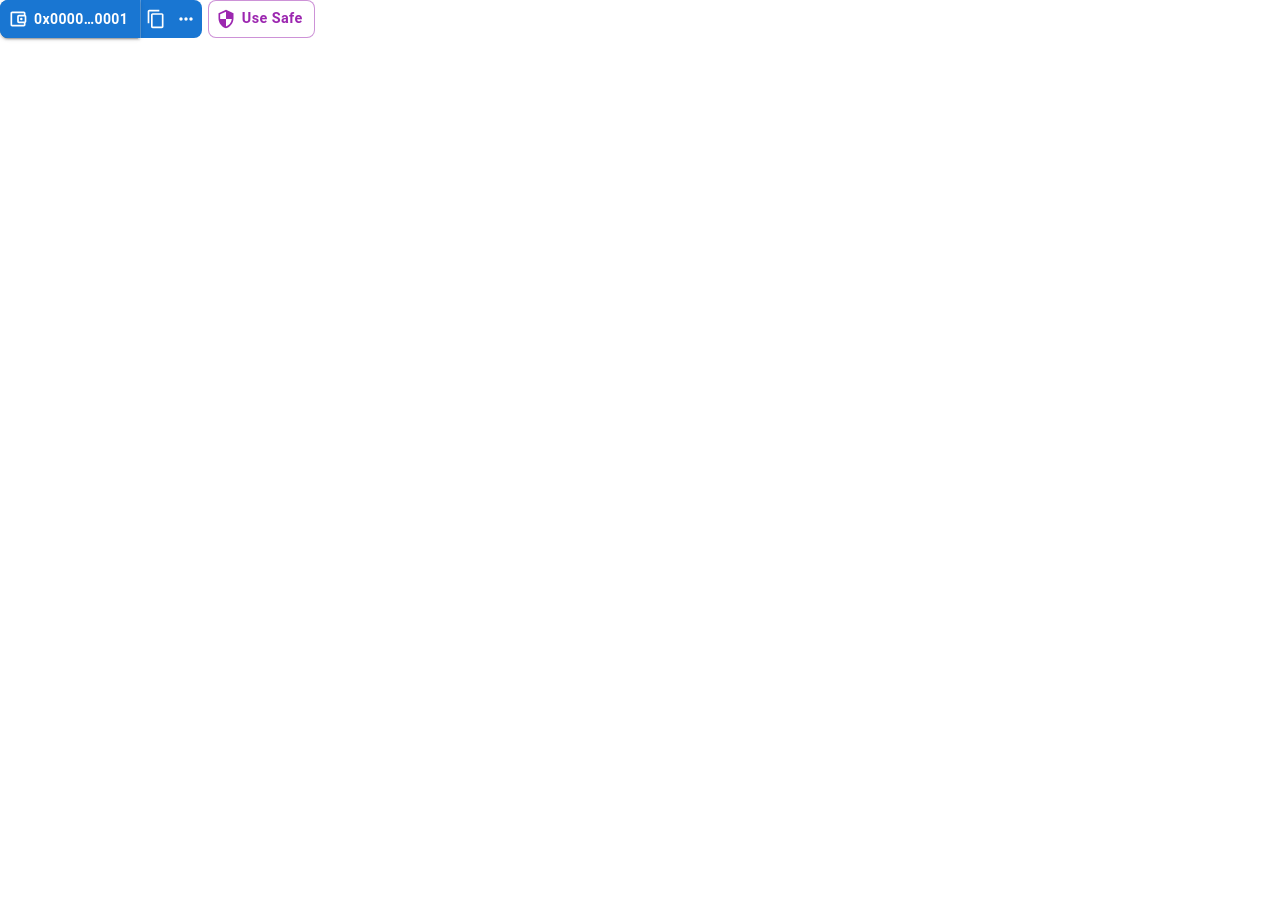
Scenario: ConnectionButton Safe address flow › shows verification failures inline instead of stacking a dialog
The width and height of the screenshot is (1280, 900).
Click the button with aria-label "Manage Safe accounts" at (261, 19), box [208, 0, 315, 38]
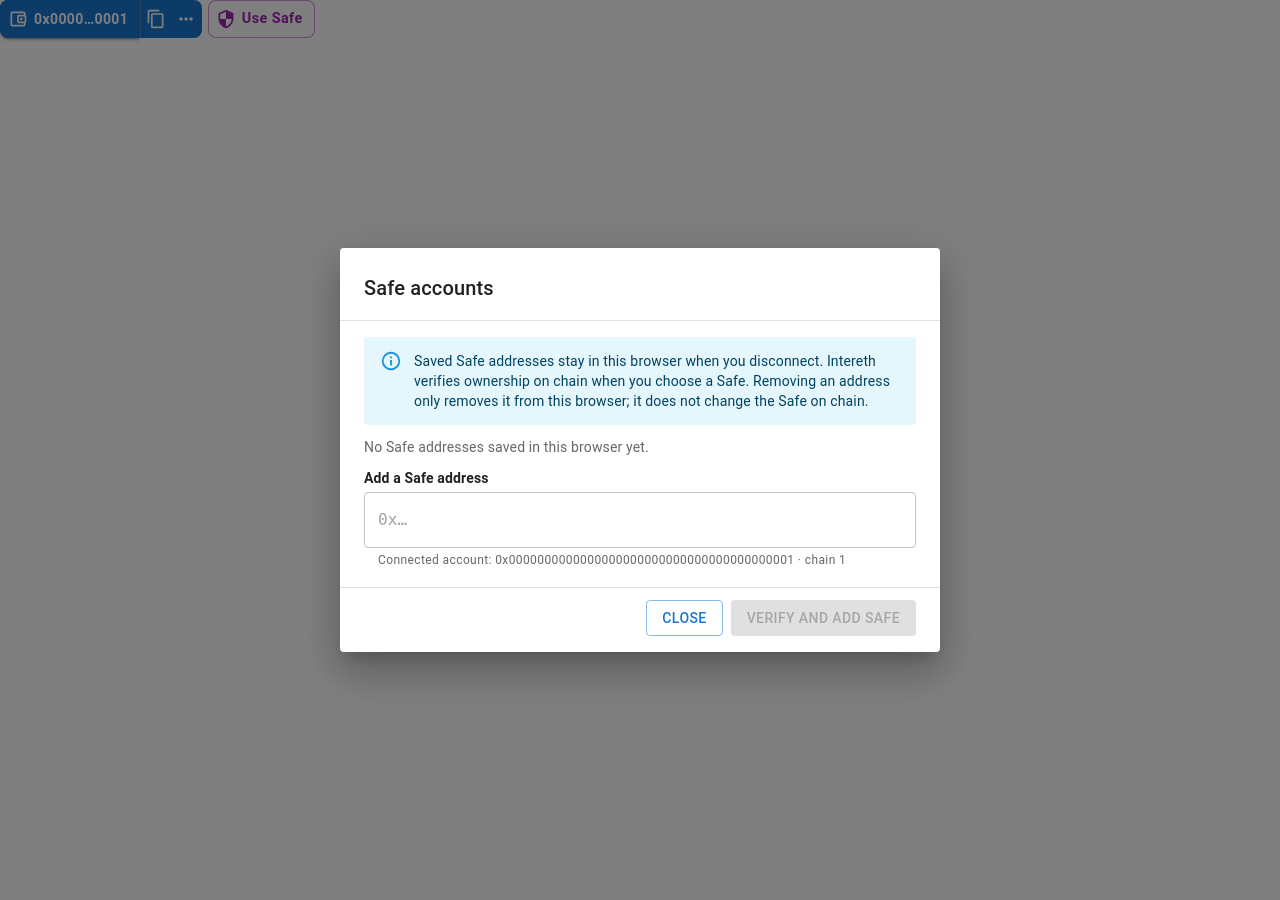
Type "0x00000000000000000000000000000000000000aa" into the field labelled "Add a Safe address" at (640, 520), box [364, 492, 916, 548]
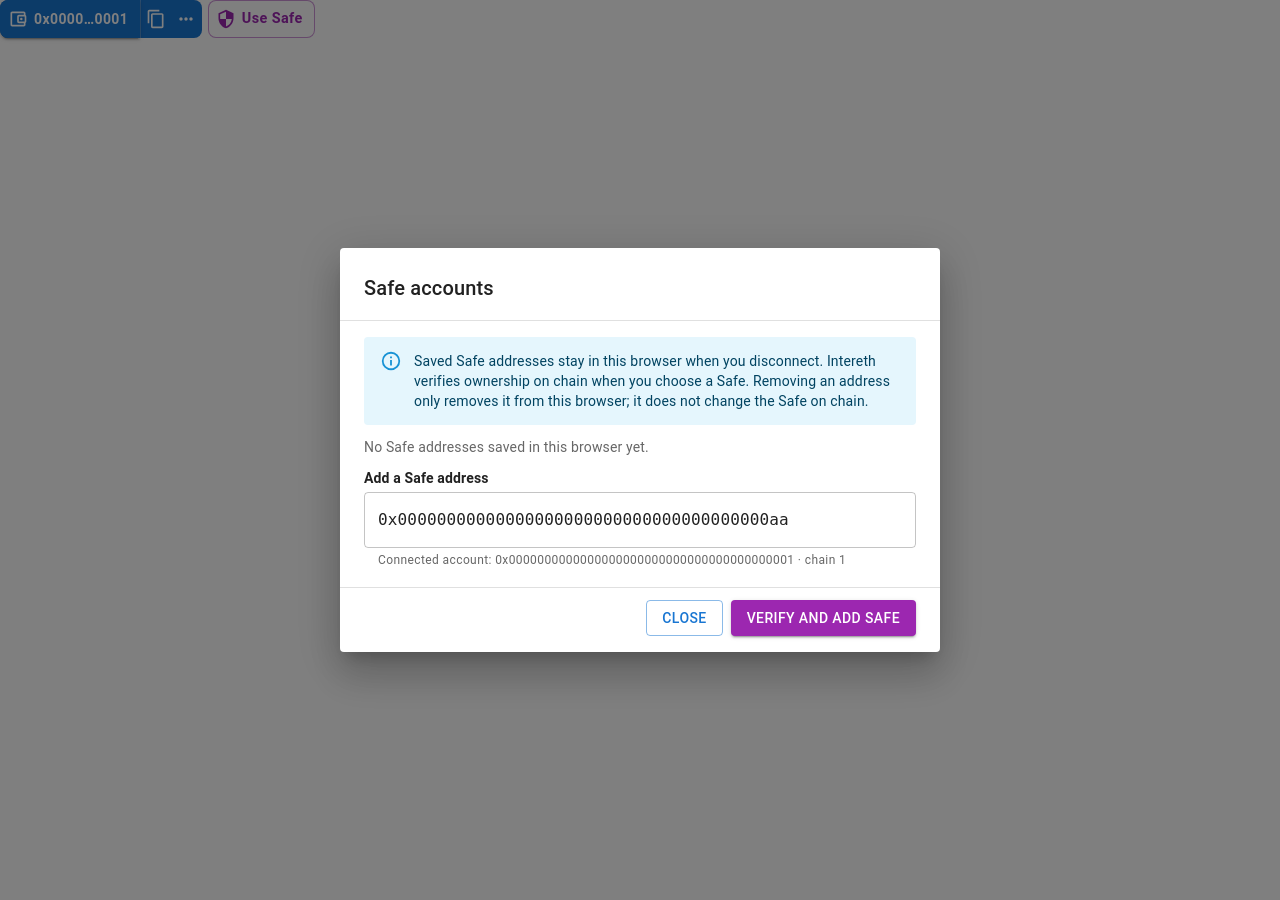
Click the button "Verify and add Safe" at (823, 618), box [731, 600, 916, 636]
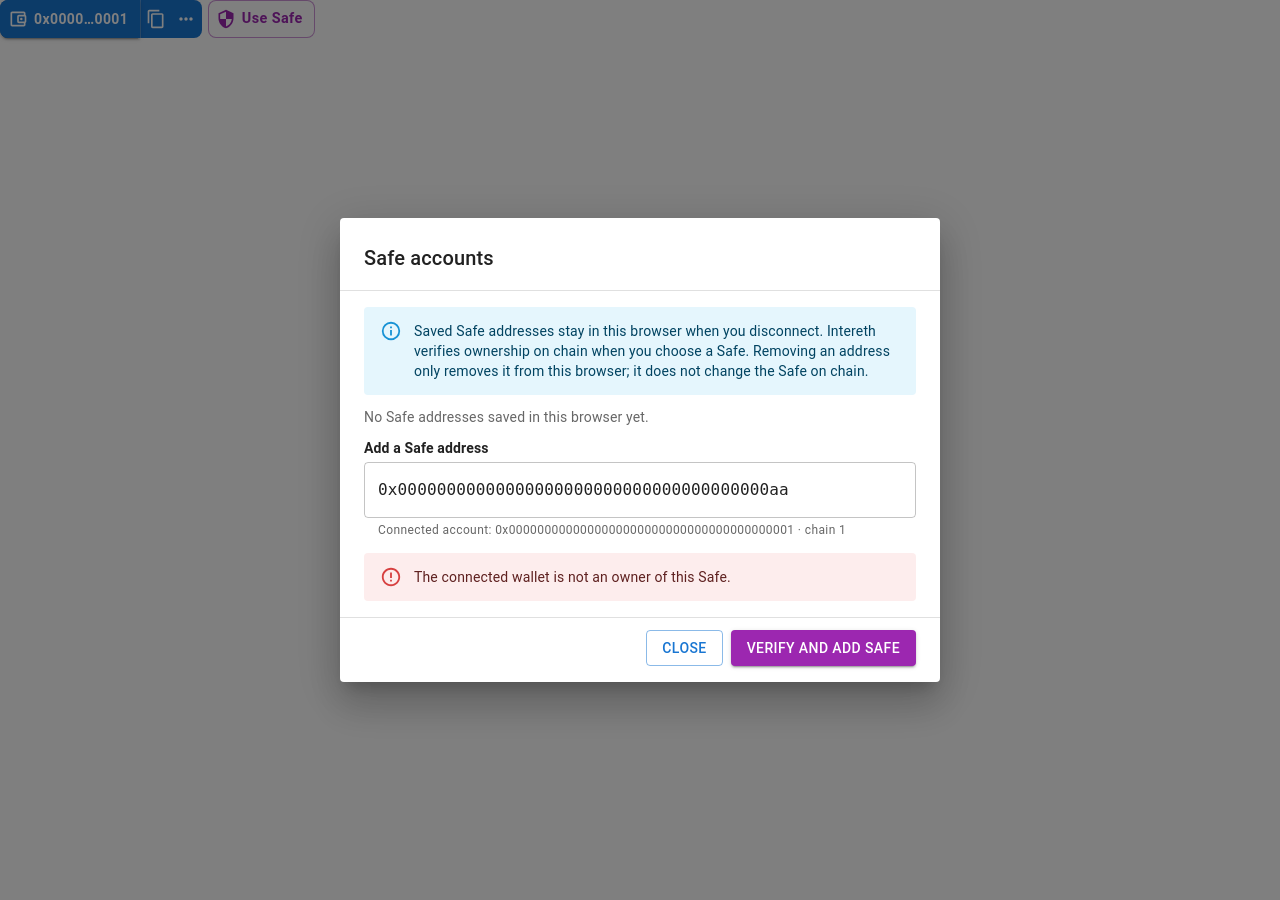
Result: the dialog "Safe accounts" is shown at [340, 218, 940, 682]
Result: the text "The connected wallet is not an owner of this Safe." is shown at [414, 569, 731, 585]
